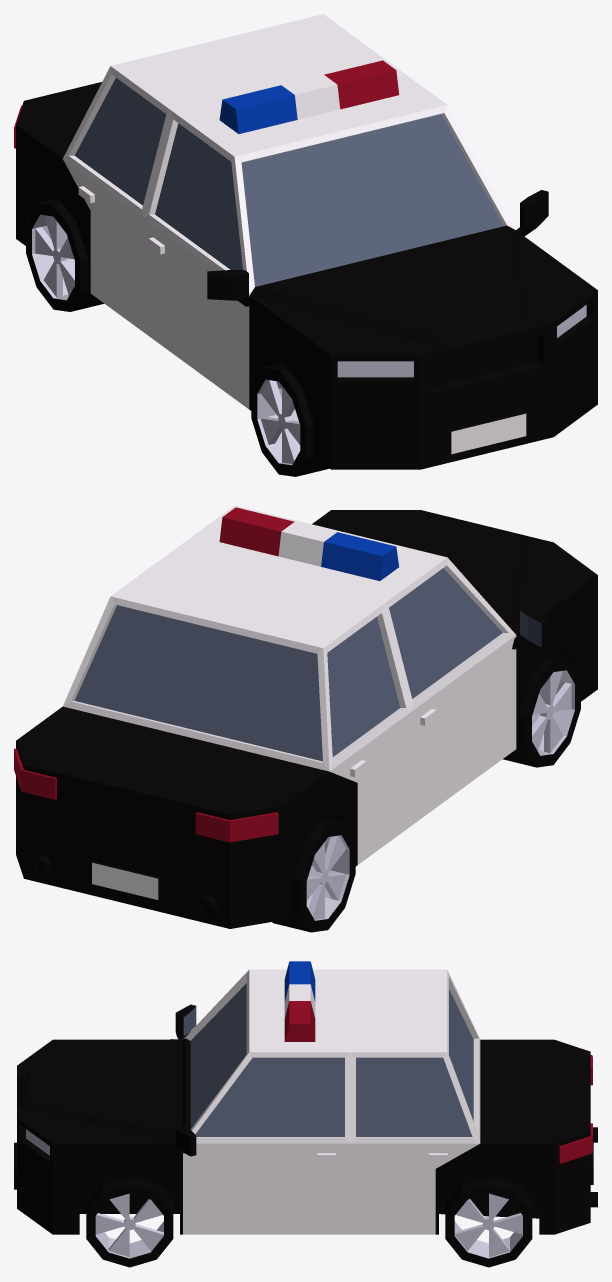
Rendered from Police_Sedan.gltf.
The picture shows the model from 3 angles, top to bottom: view 1: azimuth 30°, elevation 25°; view 2: azimuth 150°, elevation 25°; view 3: azimuth 270°, elevation 25°; orthographic projection. The views are drawn at different scales.
Visible parts, largest first — view 1: Police_Sedan, Police_Sedan_wheel_front_right, Police_Sedan_wheel_rear_right; view 2: Police_Sedan, Police_Sedan_wheel_rear_right, Police_Sedan_wheel_front_right; view 3: Police_Sedan, Police_Sedan_wheel_front_left, Police_Sedan_wheel_rear_left.
Boxes of the visible parts, x1,y1,x2,y2 form: Police_Sedan: (14, 14, 597, 469); Police_Sedan_wheel_front_right: (251, 362, 329, 476); Police_Sedan_wheel_rear_right: (26, 198, 103, 311); Police_Sedan: (14, 505, 597, 928); Police_Sedan_wheel_rear_right: (272, 818, 355, 932); Police_Sedan_wheel_front_right: (503, 653, 580, 767); Police_Sedan: (14, 961, 597, 1234); Police_Sedan_wheel_front_left: (86, 1177, 173, 1267); Police_Sedan_wheel_rear_left: (445, 1177, 532, 1267).
Size of the model in its own units: 281 by 219 by 523.
